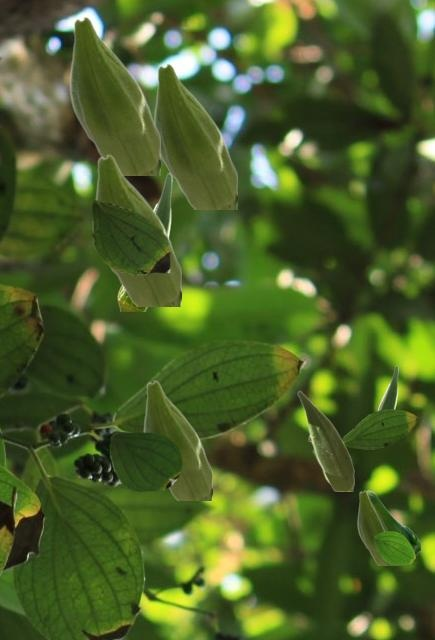okra: (69, 16, 159, 174), (95, 154, 180, 305), (153, 63, 236, 208), (143, 380, 211, 499), (117, 172, 171, 310), (297, 390, 353, 490), (366, 490, 420, 557), (357, 490, 388, 564), (377, 365, 397, 409)
